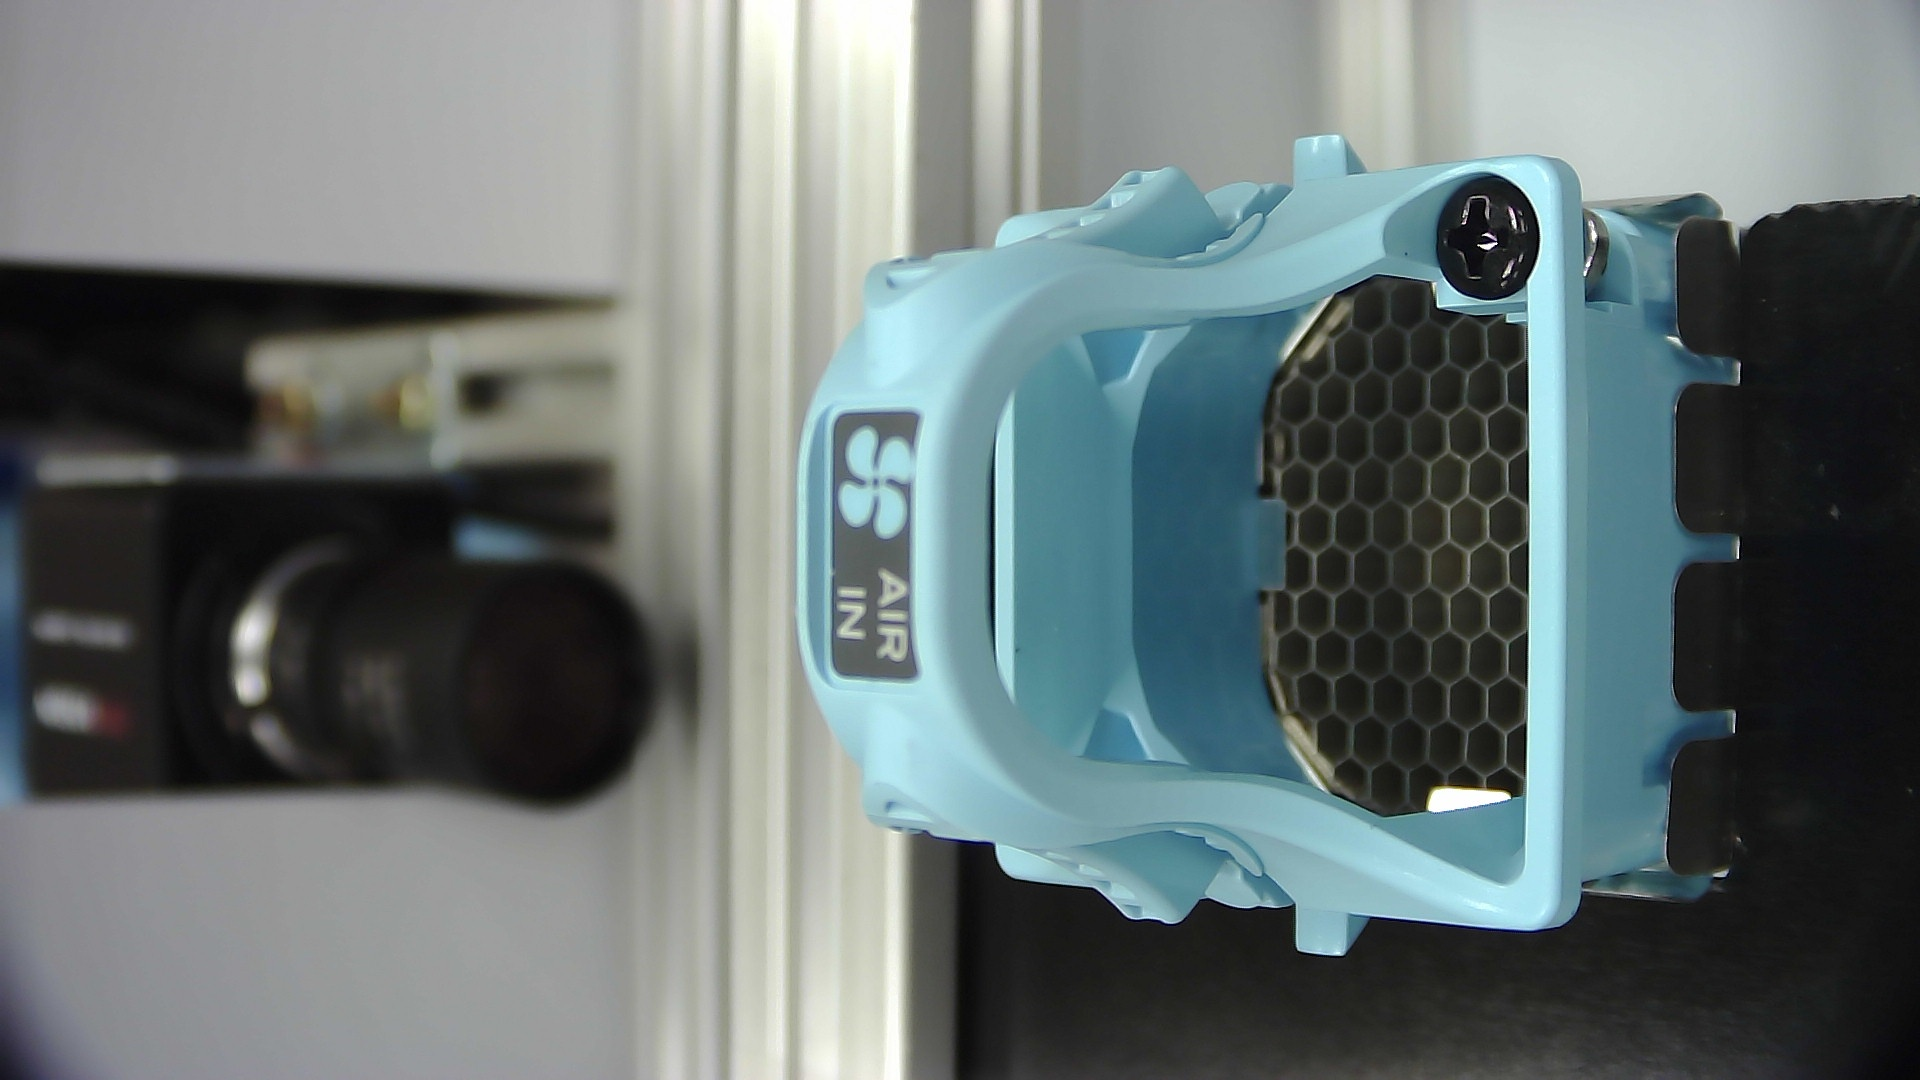3_0: (775, 86, 1805, 1018)
